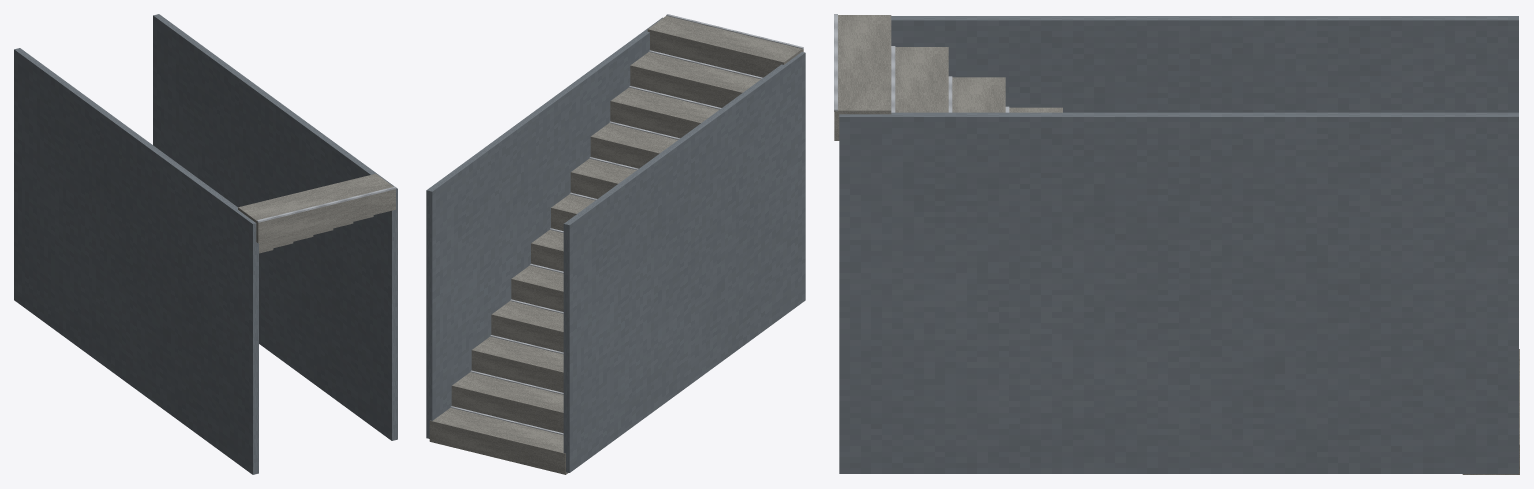
File: staircase01.glb
3 renders of one model, left to right at view 1: azimuth 30°, elevation 25°; view 2: azimuth 150°, elevation 25°; view 3: azimuth 270°, elevation 25°, orthographic. The views are drawn at different scales.
Parts seen in each view (by area): view 1: stringer, treads, nosings; view 2: stringer, treads, nosings; view 3: stringer, treads, nosings.
Boxes of the visible parts, <box> form: stringer: <box>14,14,397,474</box>; treads: <box>238,173,395,253</box>; nosings: <box>257,186,395,222</box>; stringer: <box>426,17,805,472</box>; treads: <box>429,15,803,474</box>; nosings: <box>450,14,803,435</box>; stringer: <box>839,16,1518,473</box>; treads: <box>834,15,1519,474</box>; nosings: <box>834,14,1009,112</box>.
Bounding box in the file's own units: 1.21 × 2.05 × 3.48.
Materials: 3 (3 with a texture image).
